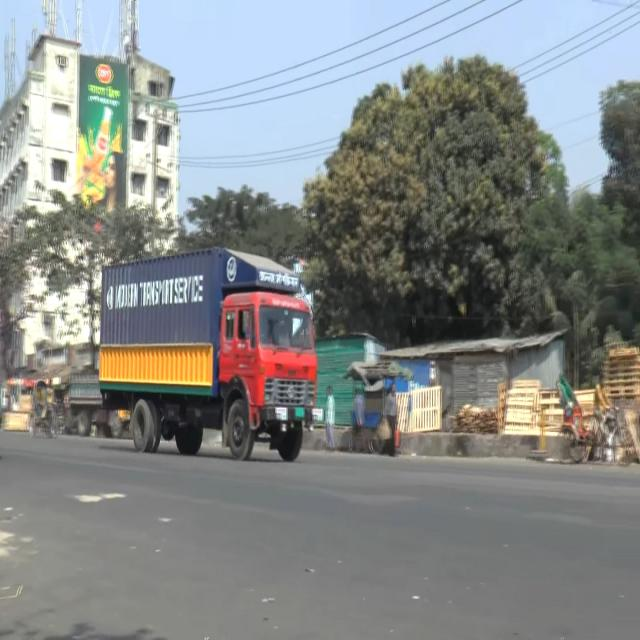truck: (97, 240, 323, 460)
